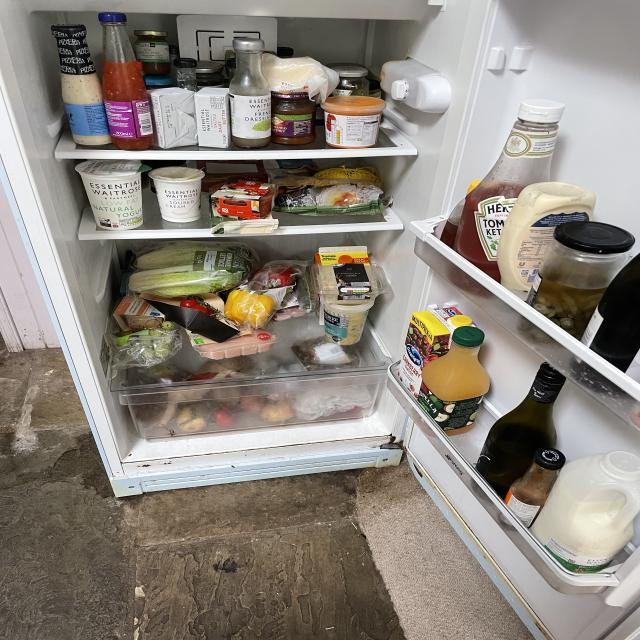Carne pollo: (186, 320, 276, 358)
Leche: (527, 453, 640, 574)
Lechuga/Endivia: (123, 243, 254, 292)
Mantequilla: (156, 87, 193, 149), (196, 87, 232, 149)
Patata: (175, 406, 207, 431), (260, 404, 294, 419)
Queso: (210, 210, 272, 234)
Tomate: (179, 298, 219, 321), (212, 406, 237, 426)
Yogur: (77, 160, 145, 227), (153, 166, 207, 222)
mayonaise: (496, 184, 599, 304)
pepper: (223, 294, 277, 323)
